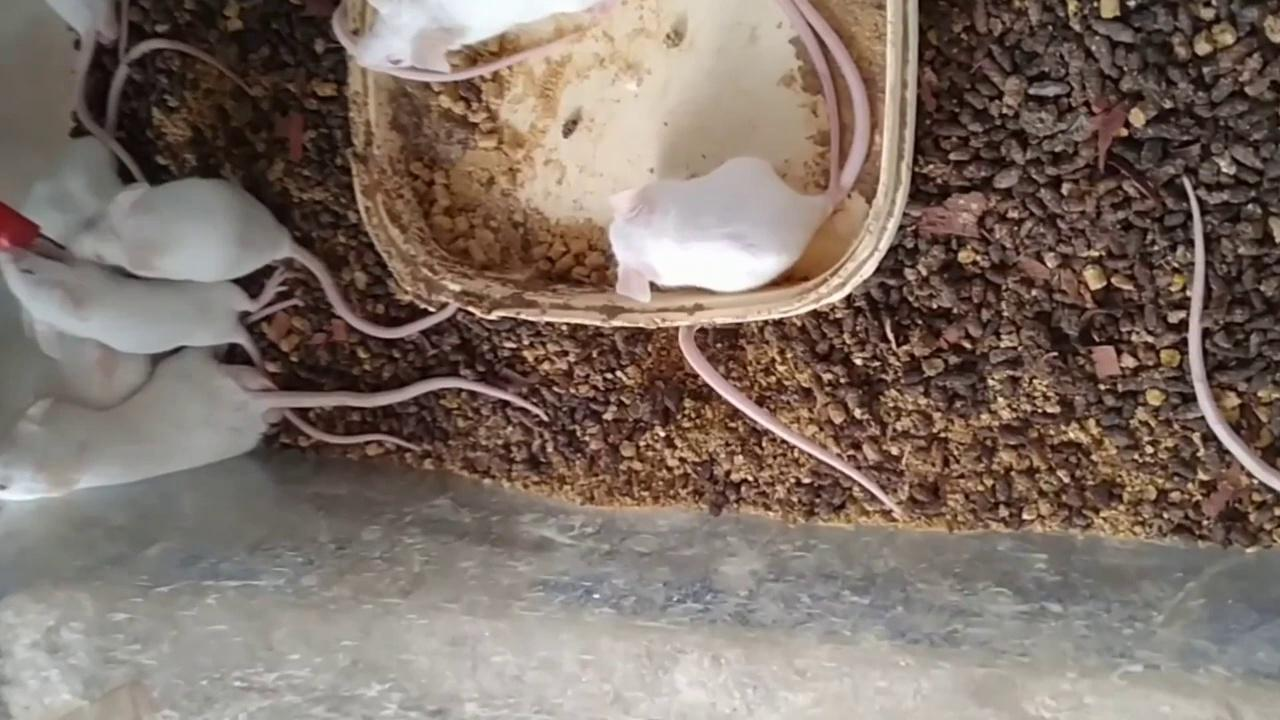rat: (3, 237, 423, 455), (0, 344, 549, 500), (611, 0, 872, 300), (69, 175, 460, 338), (356, 0, 610, 68)
